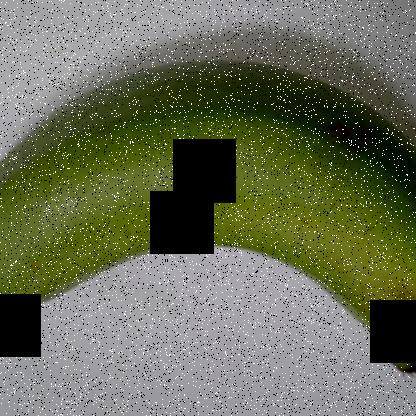freshunripe: (0, 44, 415, 401)
